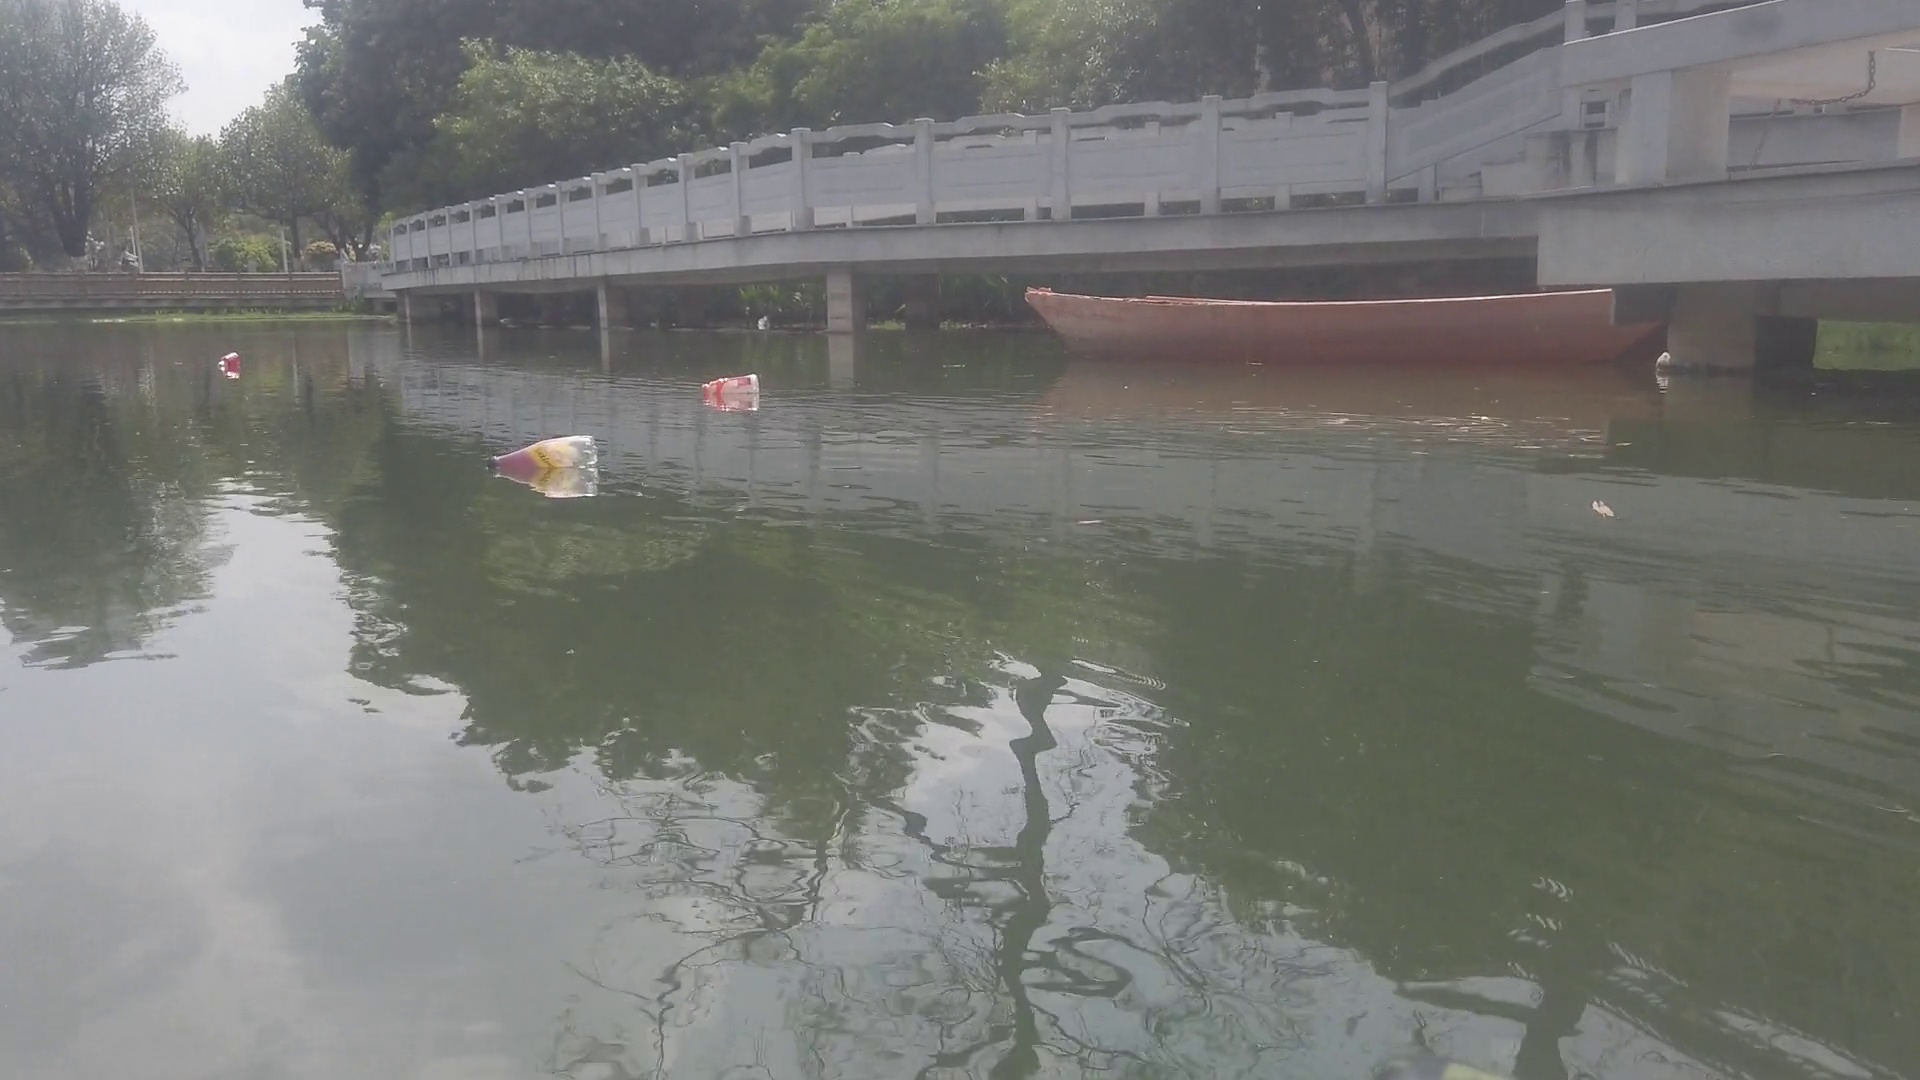bottle: (487, 435, 601, 473), (696, 369, 770, 400), (214, 348, 240, 375)
